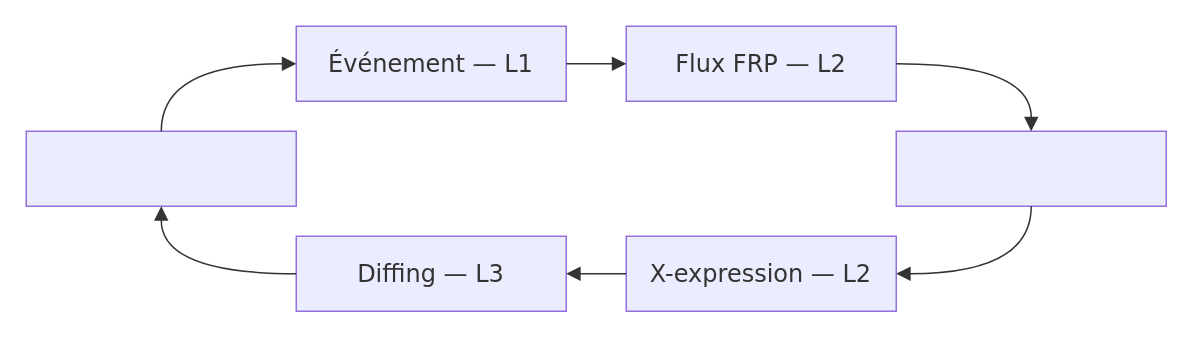
The diagram is 1193 pixels wide and 338 high, and some of its shapes have lost their labels. Each missing label, with the centre of its shape:
Liste de patches — L1: (160,168)
Nouvel état — L2: (1030,168)
